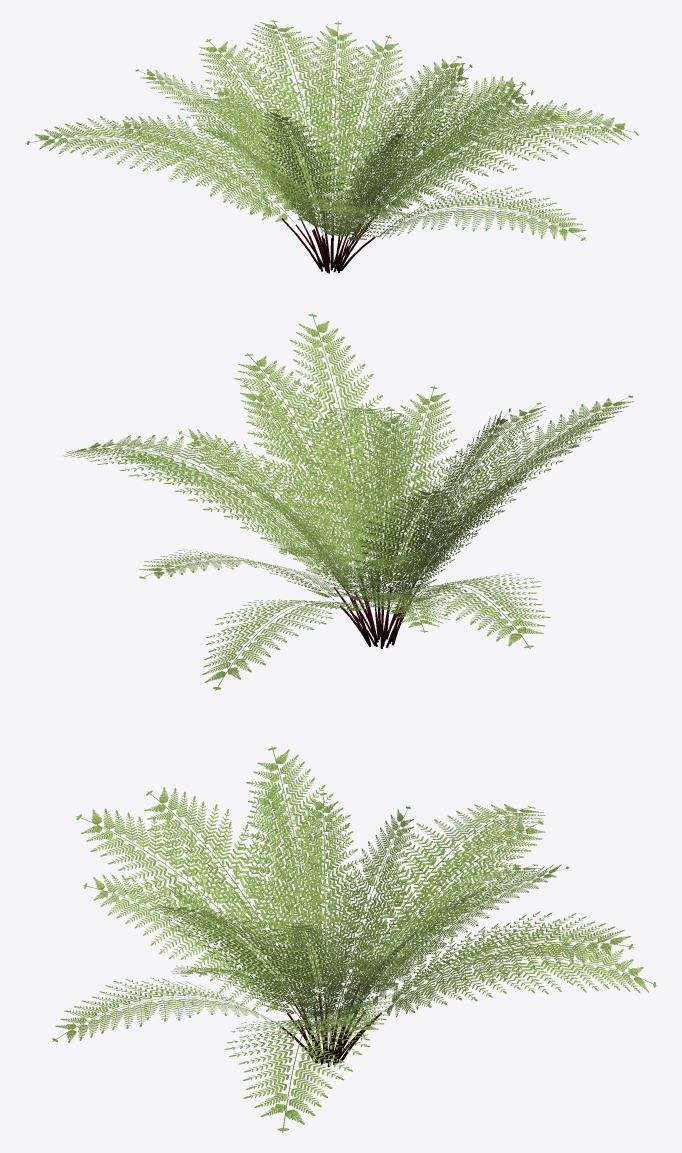
Rendered from lady_fern_v03.glb.
3 renders of one model, top to bottom at view 1: azimuth 30°, elevation 25°; view 2: azimuth 150°, elevation 25°; view 3: azimuth 270°, elevation 25°, orthographic. The views are drawn at different scales.
Visible parts, largest first — view 1: lady_fern_v03; view 2: lady_fern_v03; view 3: lady_fern_v03.
Boxes of the visible parts, <box> form: lady_fern_v03: <box>25,20,639,273</box>; lady_fern_v03: <box>62,313,633,690</box>; lady_fern_v03: <box>52,746,657,1132</box>.
Size of the model in its own units: 1.8 by 0.6681 by 1.6.
2 materials, 2 textured.
